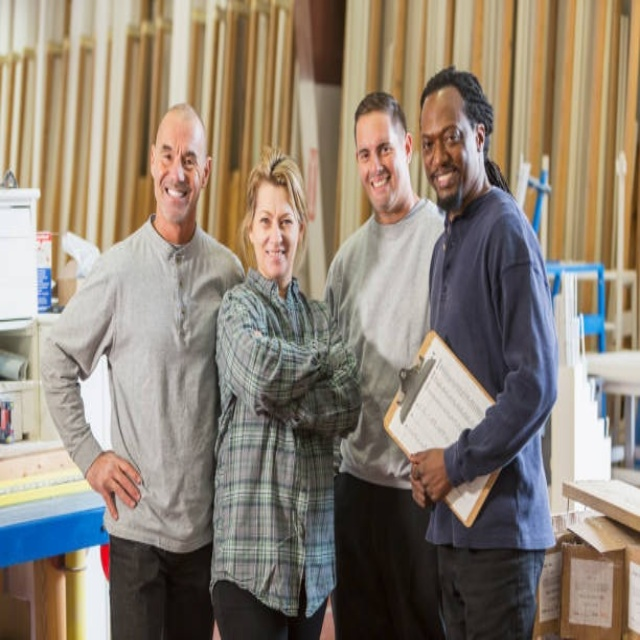Sin_gafas: (422, 115, 465, 155), (356, 130, 395, 165), (158, 140, 203, 169), (256, 204, 297, 232)
Sin_guantes: (85, 439, 143, 524), (405, 443, 452, 507)
Sin_mascara: (428, 163, 461, 196), (160, 179, 188, 213), (369, 171, 393, 201), (265, 243, 290, 268)
